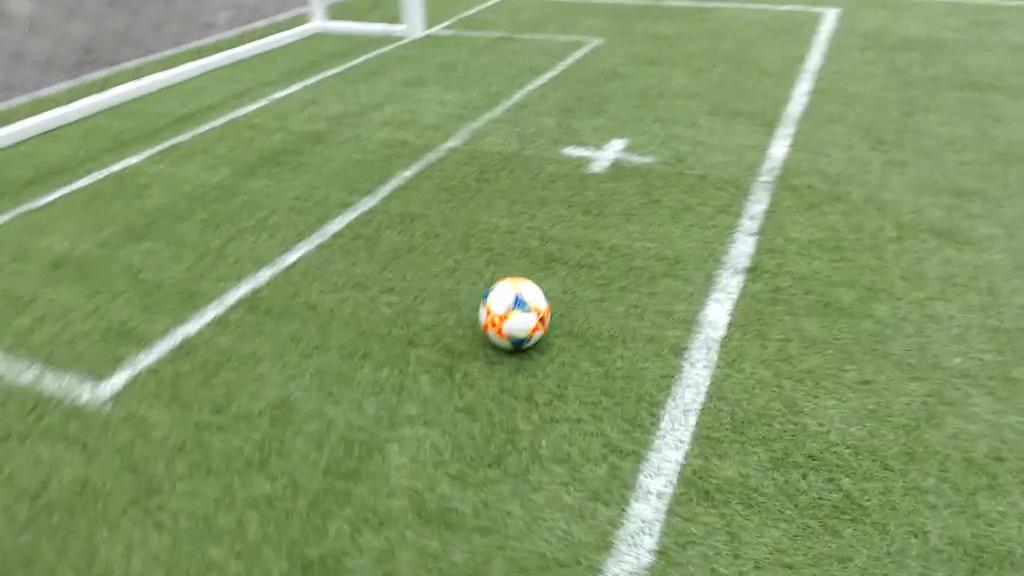ball: (480, 276, 548, 353)
